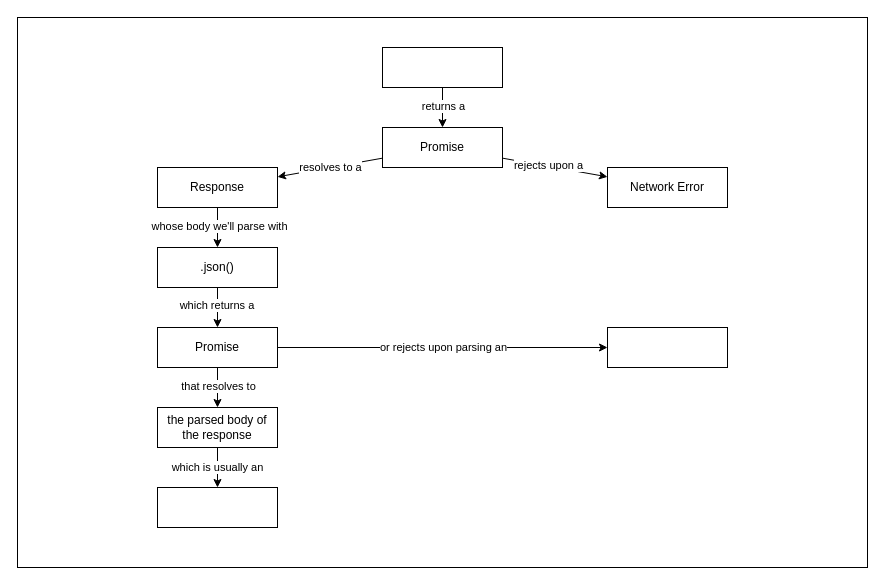
The diagram is 885 pixels wide and 585 high, and some of its shapes have lost their labels. Here are the shapes that lost their labels. From the top down, the centre of each, then its label:
At (442,67): "fetch(url)".
At (667,347): "imporperly formatted JSON body".
At (217,507): "object or array of objects".
